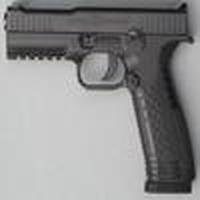gun: (4, 1, 200, 196)
